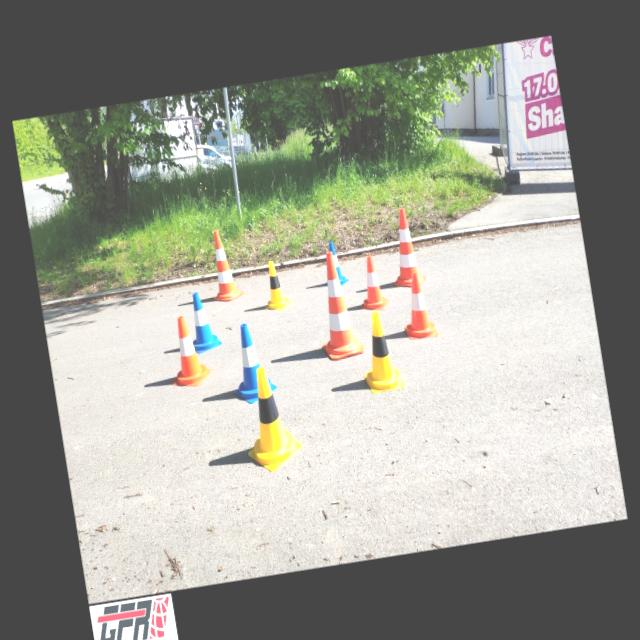blue_cone: (223, 321, 280, 406), (182, 290, 222, 350), (328, 240, 350, 288)
large_orange_cone: (308, 248, 366, 361), (383, 206, 428, 291), (203, 228, 245, 304)
orange_cone: (162, 312, 214, 390), (396, 270, 439, 342), (355, 254, 390, 313)
yellow_cone: (235, 362, 306, 474), (354, 308, 406, 394), (258, 259, 292, 312)
